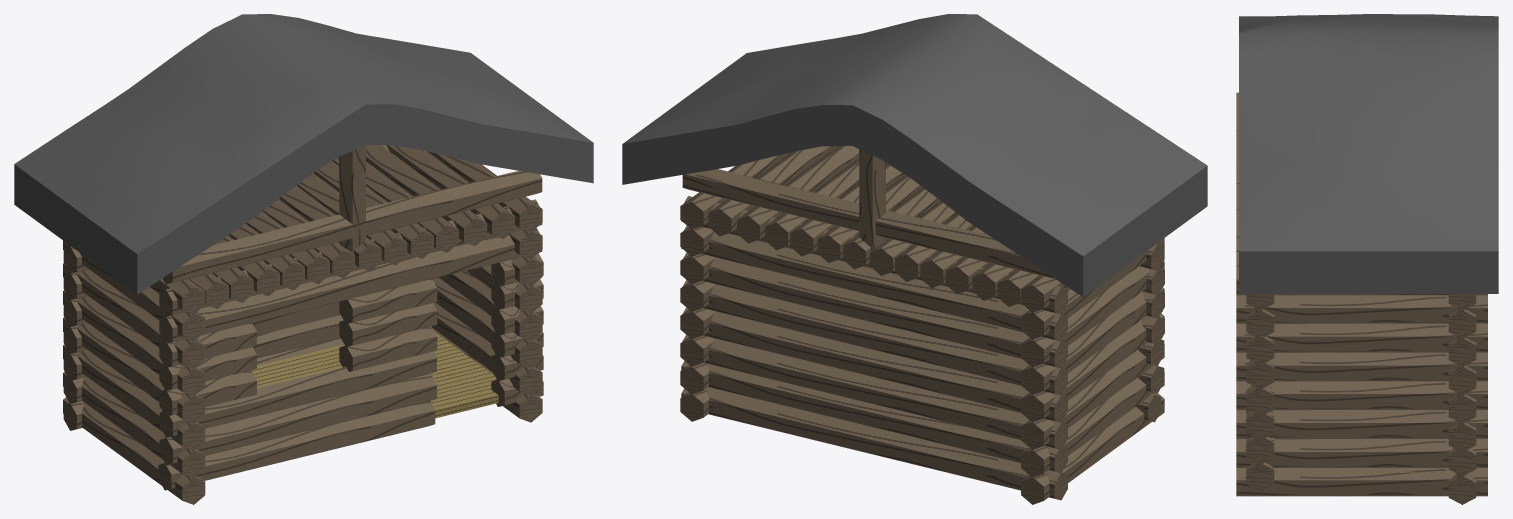
The model's file is logcabin.fbx.
3 views of the same model, side by side, from view 1: azimuth 30°, elevation 25°; view 2: azimuth 150°, elevation 25°; view 3: azimuth 270°, elevation 25° (orthographic). The views are drawn at different scales.
Visible parts, largest first — view 1: pCylinder148; view 2: pCylinder148; view 3: pCylinder148.
Boxes of the visible parts, bbox=[...] form: pCylinder148: bbox=[14, 14, 593, 504]; pCylinder148: bbox=[622, 14, 1207, 504]; pCylinder148: bbox=[1236, 14, 1498, 504].
Bounding box in the file's own units: 34.63 × 25.94 × 16.35.
Materials: 3 (2 with a texture image).
